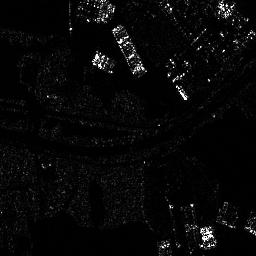ship: (112, 23, 148, 79)
